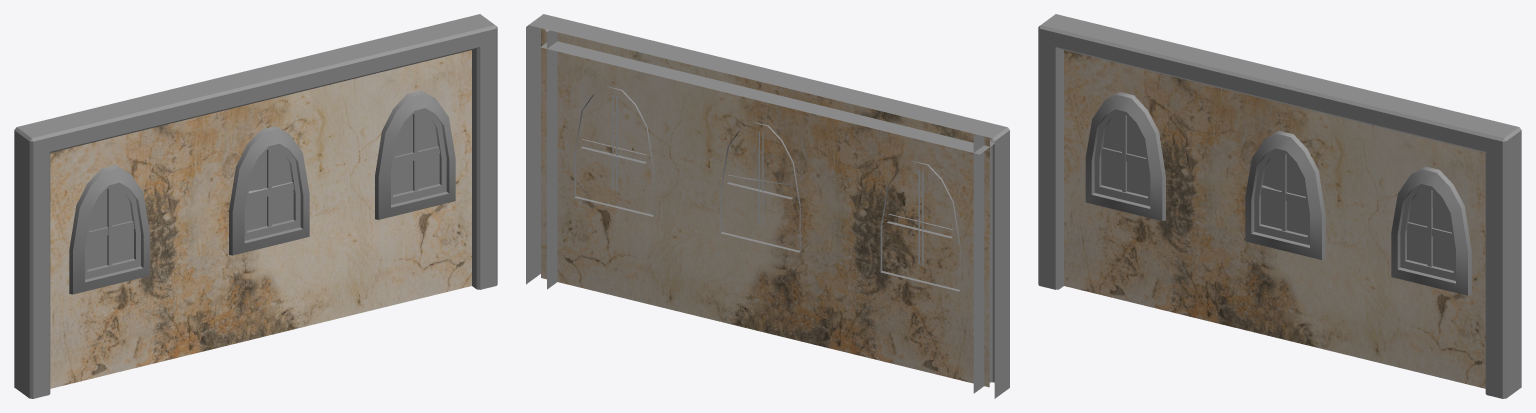
File: Batiment_1_porte_fenetre_circulaire_3.FBX
3 views of the same model, side by side, from view 1: azimuth 30°, elevation 25°; view 2: azimuth 150°, elevation 25°; view 3: azimuth 330°, elevation 25° (orthographic).
Visible parts, largest first — view 1: Object010; view 2: Object010; view 3: Object010.
Boxes of the visible parts, <box> form: Object010: <box>14,14,497,398</box>; Object010: <box>526,14,1009,398</box>; Object010: <box>1038,14,1521,398</box>.
Bounding box in the file's own units: 315 × 19.35 × 167.
4 materials, 1 textured.
